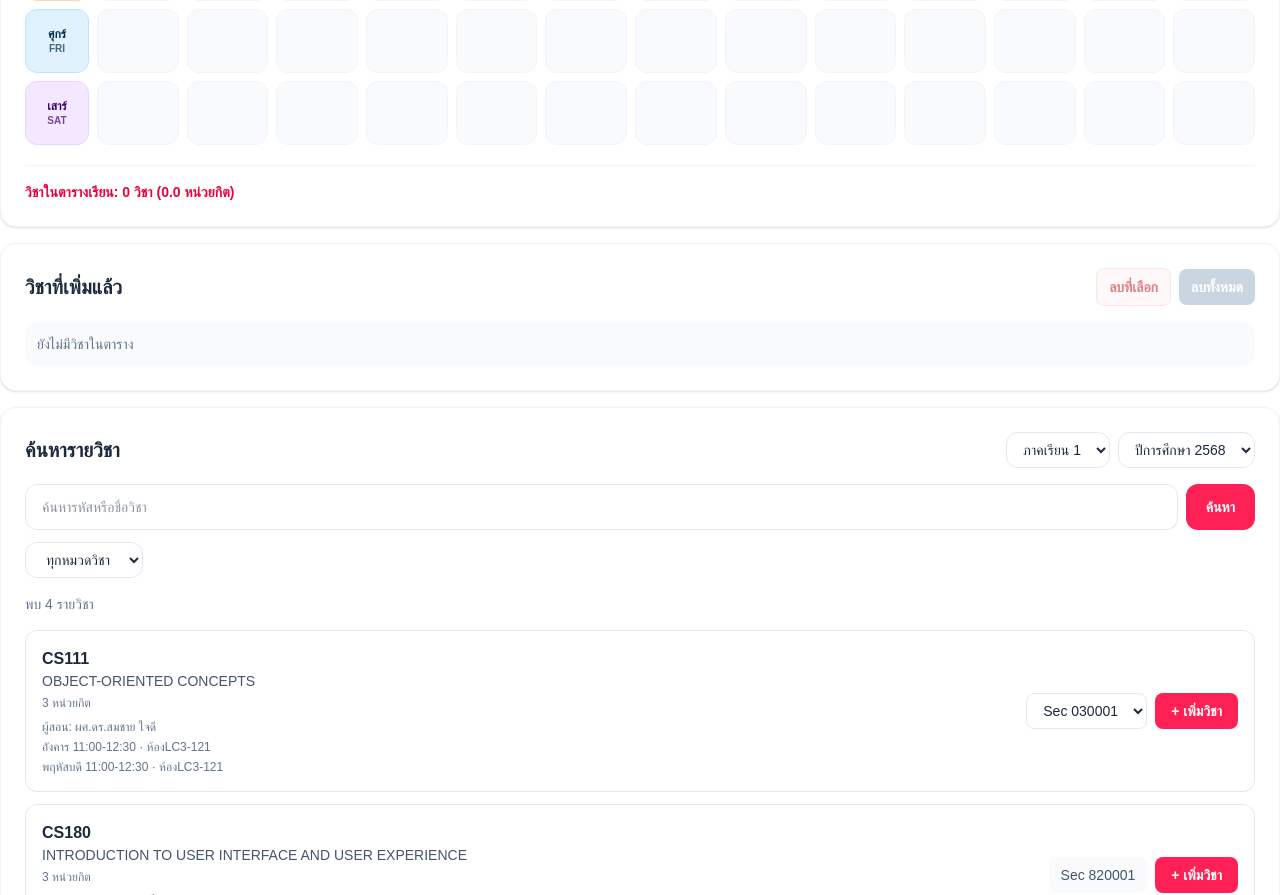
Test: US1-T10 หน้าตารางเรียนจำลองเชื่อมกับ API › เปลี่ยนภาคเรียนระหว่างใช้งาน (จากรีวิวของ sitch ใน #45) › เปลี่ยนภาคแล้วโหลดรายวิชาภาคใหม่ไม่สำเร็จ ไม่แสดงรายวิชาภาคเก่า และแสดงข้อความ
The image size is (1280, 895).
(page scrolled)
Expected: the text "พบ 4 รายวิชา" is shown, [25,596,94,612]
Select "ภาคเรียน 2" in the dropdown named "ภาคเรียน" at {"x": 1058, "y": 450}, box [1006,432,1110,468]
(page scrolled)
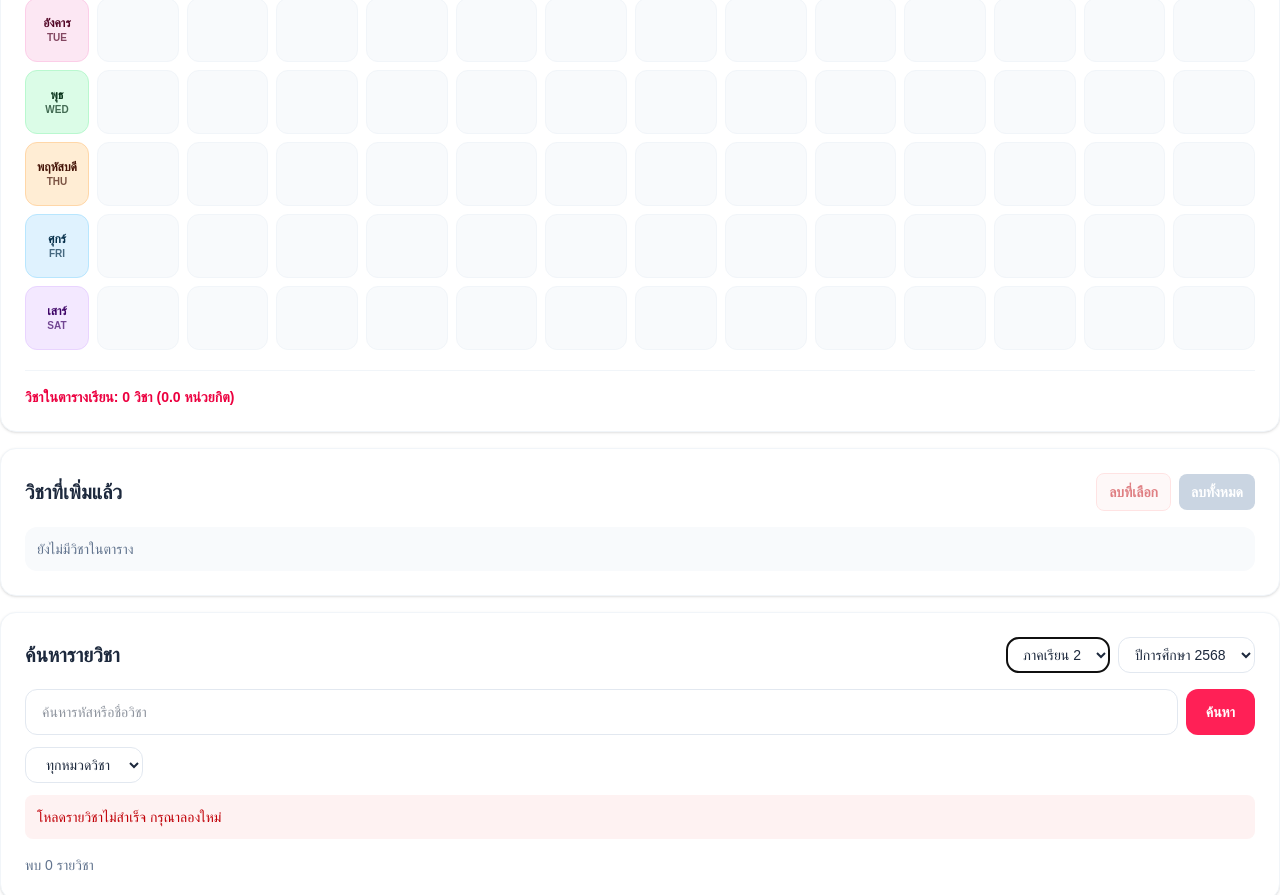
Now the text "โหลดรายวิชาไม่สำเร็จ กรุณาลองใหม่" is shown, box [25,795,1255,839]
Now no buttons "+ เพิ่มวิชา" are shown
